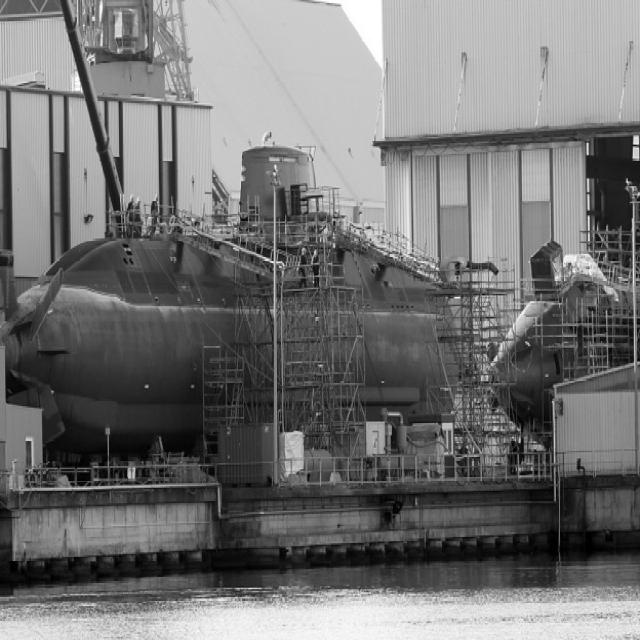submarine: (1, 223, 469, 449), (484, 230, 640, 446)
